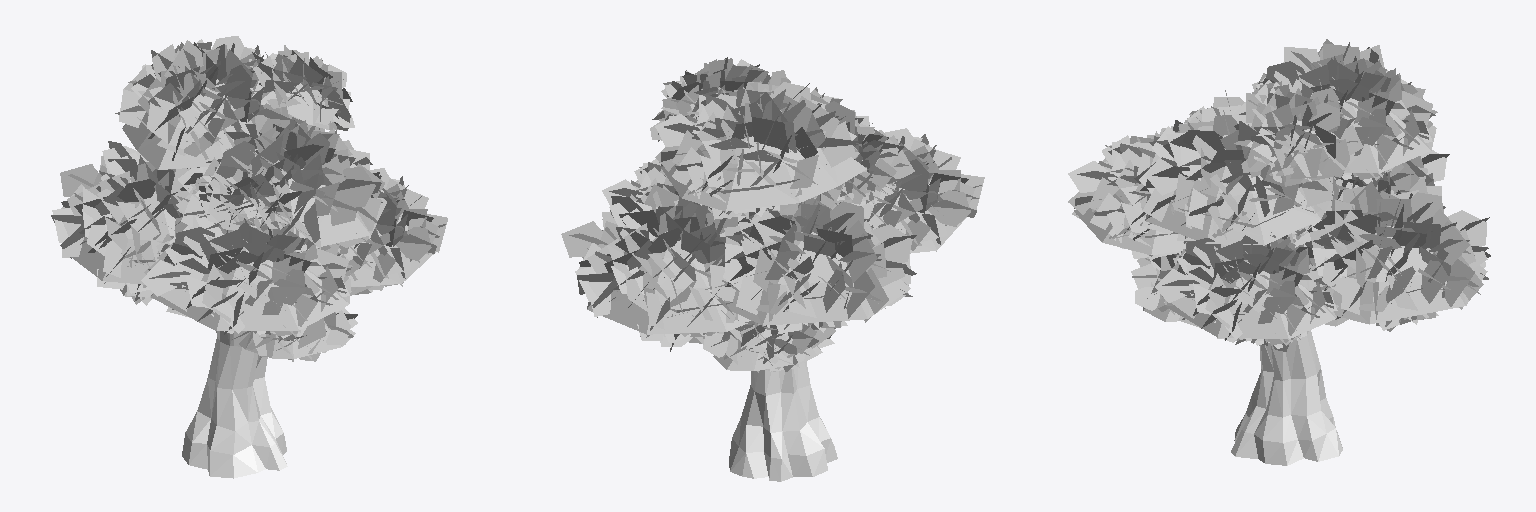
File: TreeHD.obj
The picture shows the model from 3 angles: view 1: azimuth 30°, elevation 25°; view 2: azimuth 150°, elevation 25°; view 3: azimuth 270°, elevation 25°; orthographic projection.
Visible parts, largest first — view 1: tree_1_LOD0_Mesh.003; view 2: tree_1_LOD0_Mesh.003; view 3: tree_1_LOD0_Mesh.003.
Part boxes in pixels (x1,y1,x2,y2): tree_1_LOD0_Mesh.003: (51,36,447,478); tree_1_LOD0_Mesh.003: (561,57,984,481); tree_1_LOD0_Mesh.003: (1068,39,1490,465).
Bounding box in the file's own units: 13.8 × 16.13 × 15.62.